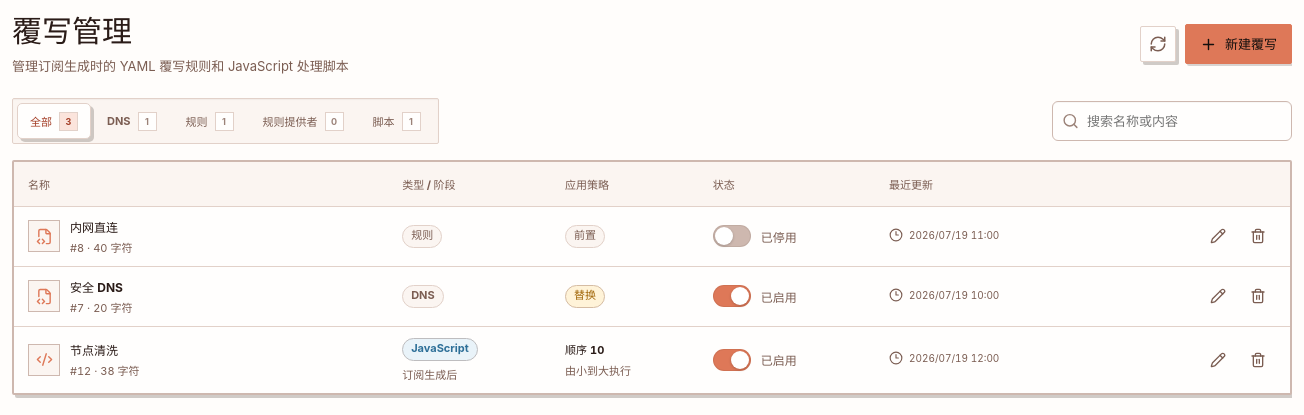
Scenario: custom rules workbench › merges YAML rules and scripts, then filters them by the original categories
Expected: the text "安全 DNS" is shown, [70,280,123,294]
Expected: the text "内网直连" is shown, [70,220,118,234]
Click the tab "脚本 1": (396, 121) [360,103,434,139]
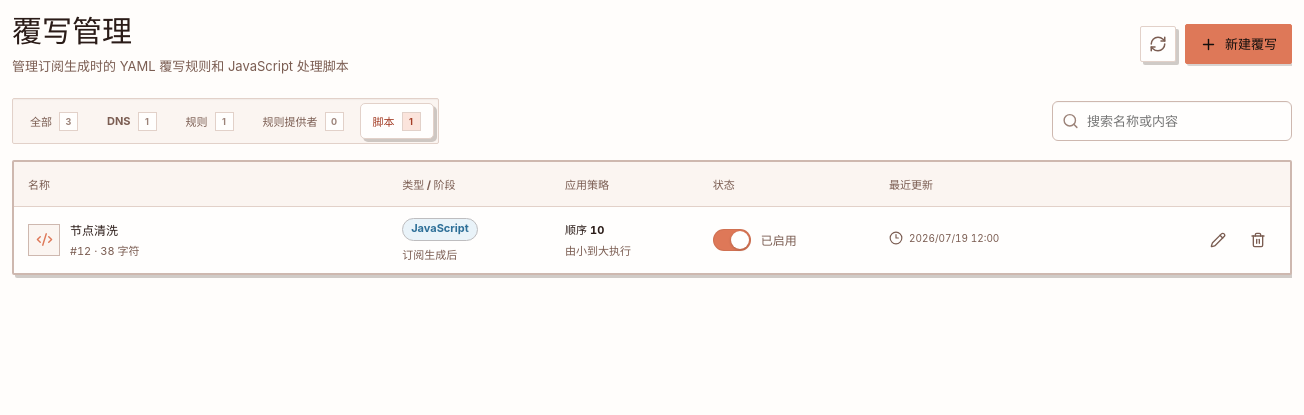
Expected: the text "节点清洗" is shown, [70,223,118,238]
Expected: the text "安全 DNS" is gone
Expected: the text "内网直连" is gone
